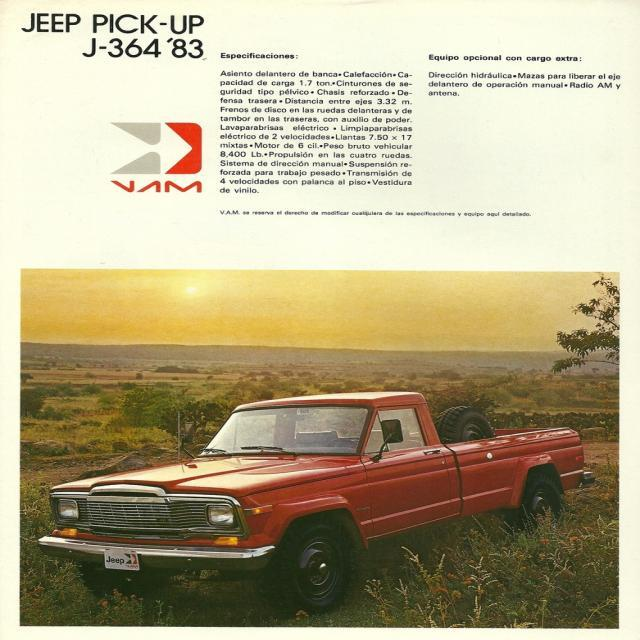bicycle: (48, 401, 590, 606)
